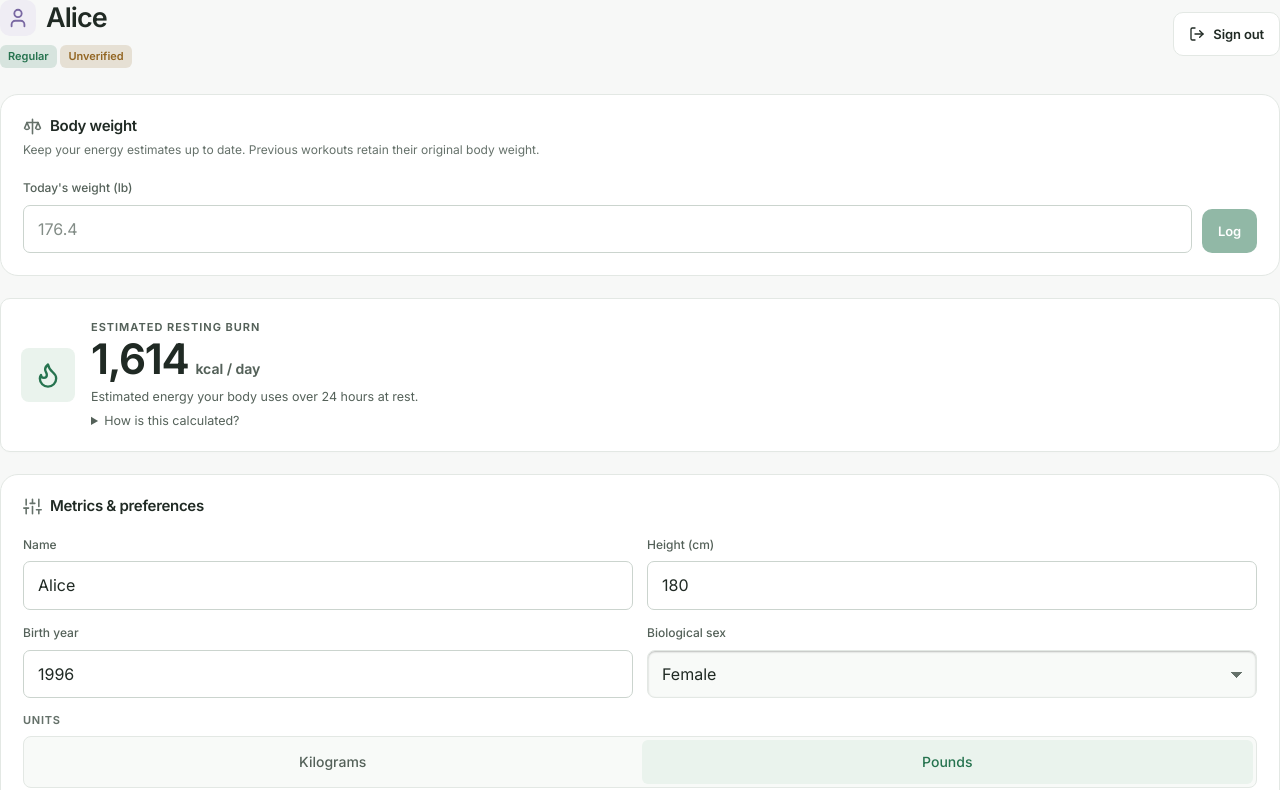
it: uses the stored kilograms for resting burn with either display unit and shows the sex-specific calculation
This screenshot has width=1280, height=790.
Click the heading "How is this calculated?".
click(172, 421)  # box [104,413,240,428]
(page scrolled)
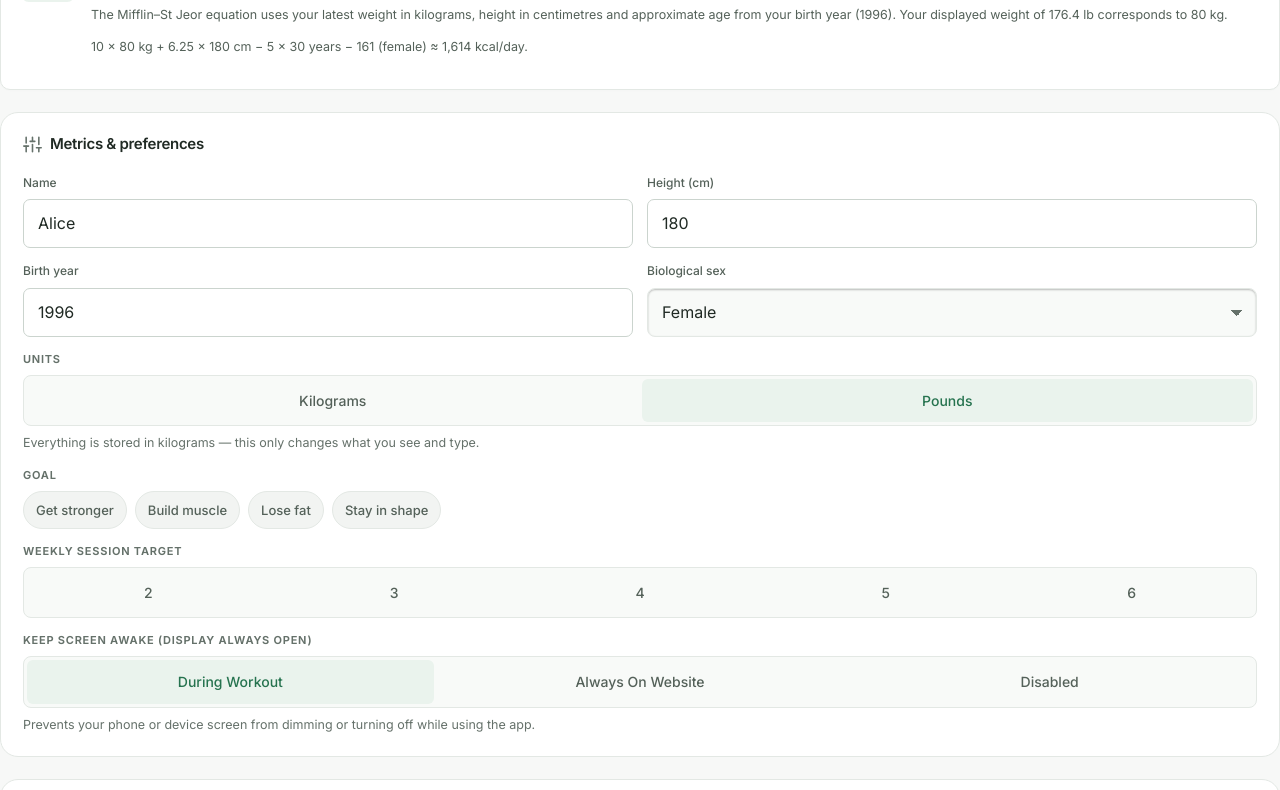
expect the text "176.4 lb corresponds to 80 kg" is shown: met, box [896,7,1228,22]
expect the text "− 161 (female)" is shown: met, box [345,39,427,54]
Click the button "Kilograms".
click(333, 400)  # box [27,379,638,422]
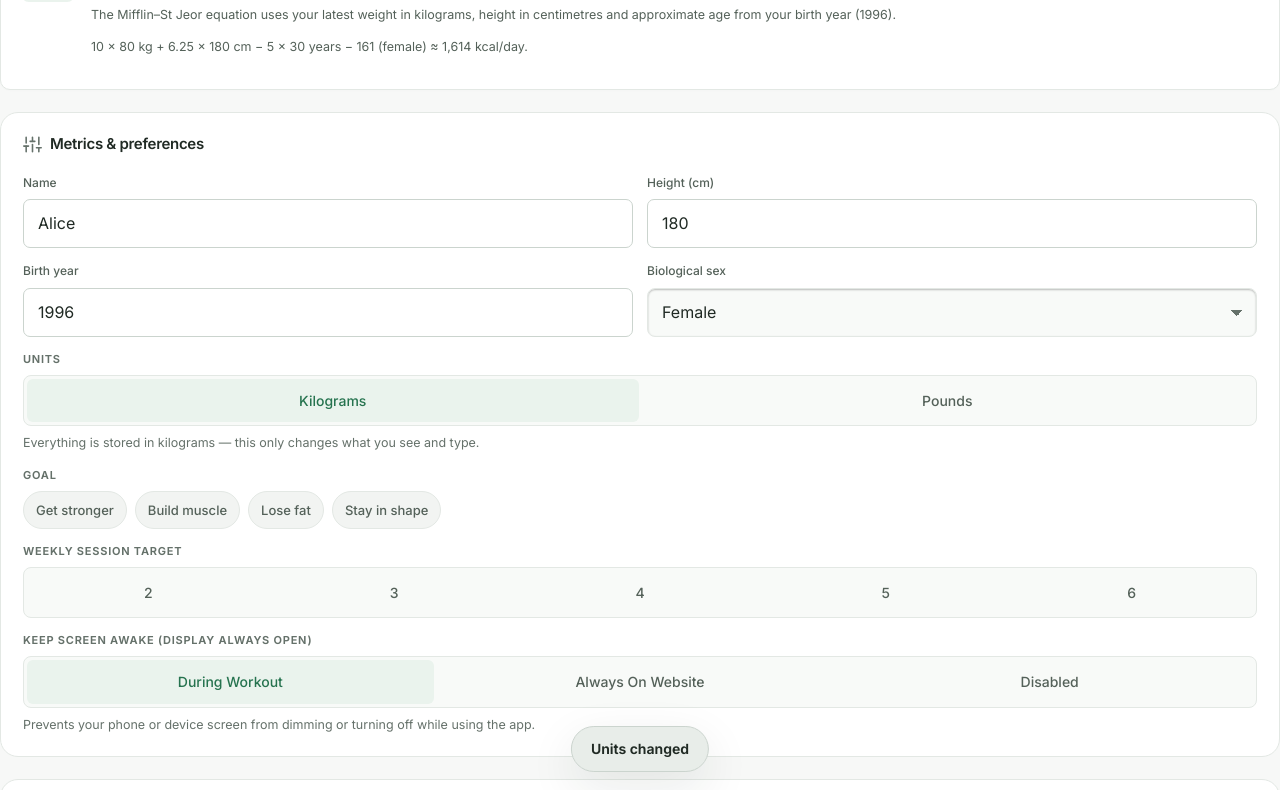
expect the text "corresponds to" is gone: met
Select "Male" in the dropdown labelled "Biological sex" at (952, 312), box [647,288,1257,337]
(page scrolled)
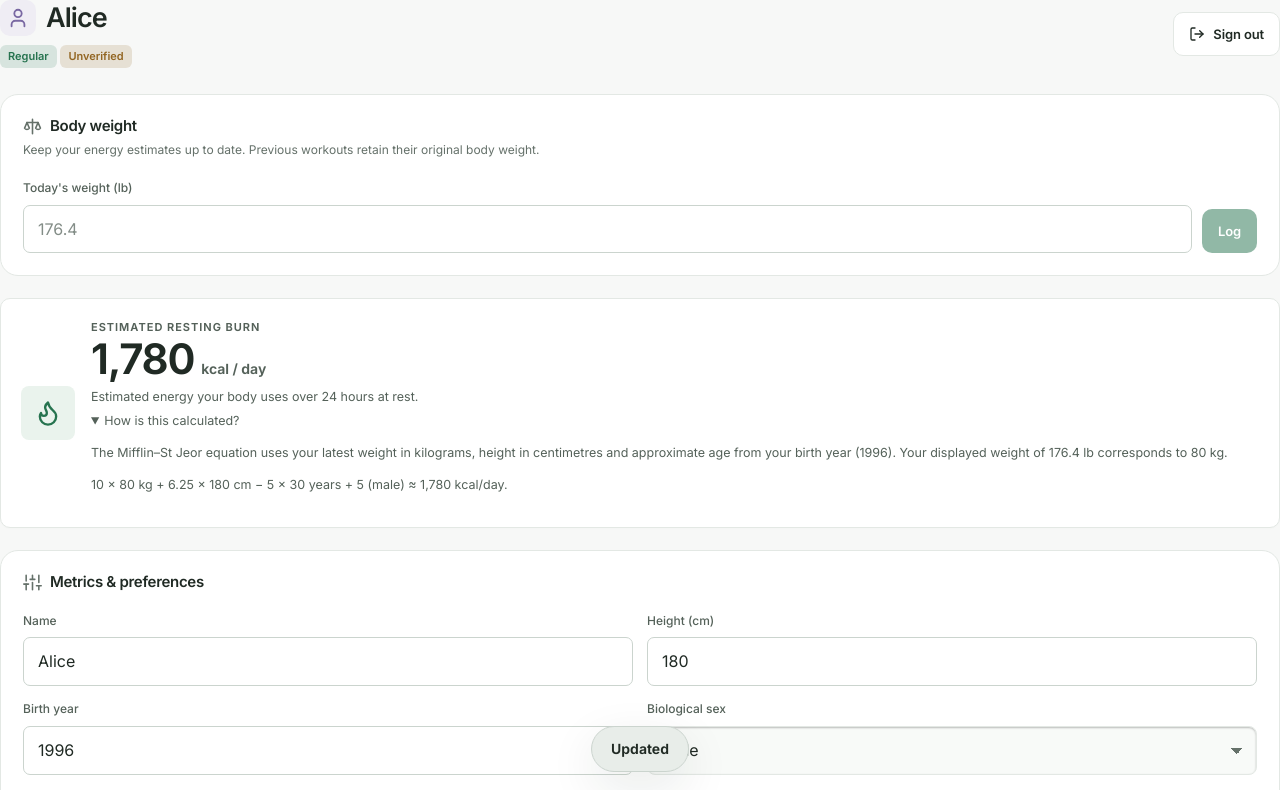
expect the text "1,780" is shown: met, box [91,333,194,384]
